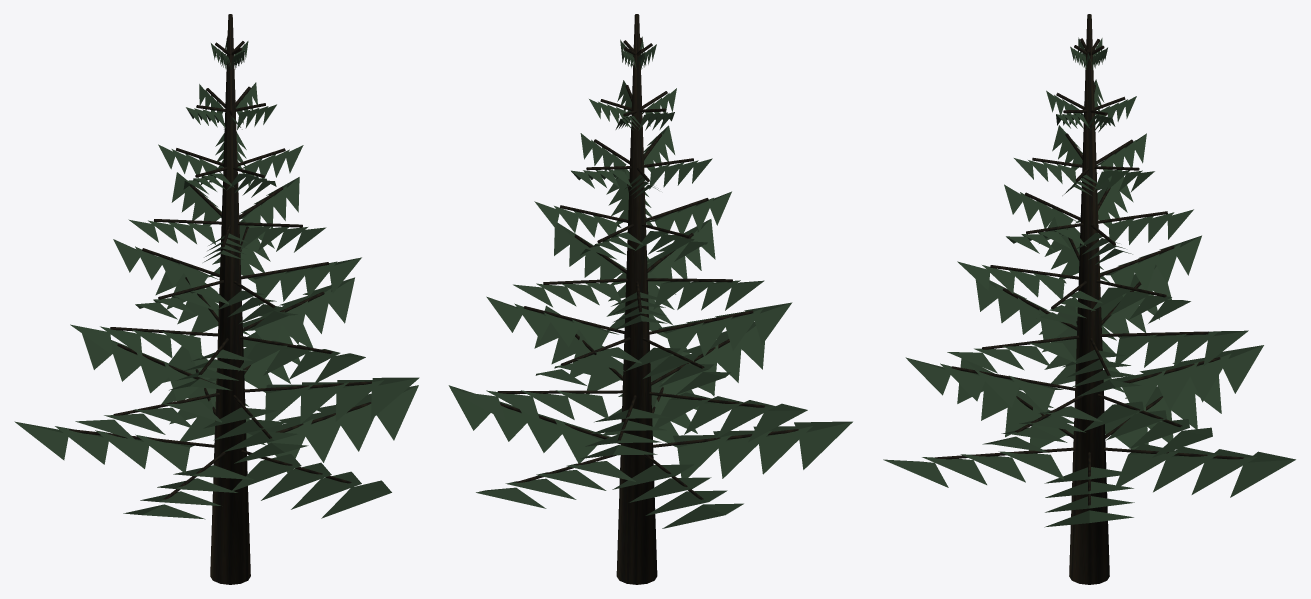
File: pine-1.glb
3 views of the same model, side by side, from view 1: azimuth 30°, elevation 25°; view 2: azimuth 150°, elevation 25°; view 3: azimuth 270°, elevation 25° (orthographic).
Visible parts, largest first — view 1: Trunk, Needle spray.002, Needle spray.006, Needle spray.004, Needle spray.078, Needle spray.076, Needle spray.074, Needle spray.023, Needle spray.017, Needle spray.021, Needle spray.072, Needle spray.019 (+13 smaller); view 2: Trunk, Needle spray.030, Needle spray.028, Needle spray.026, Needle spray.024, Needle spray.001, Needle spray.003, Needle spray.062, Needle spray.060, Needle spray.058, Needle spray.056, Needle spray.068 (+21 smaller); view 3: Trunk, Needle spray.014, Needle spray.010, Needle spray.012, Needle spray.008, Needle spray.054, Needle spray.052, Needle spray.050, Needle spray.020, Needle spray.039, Needle spray.048, Needle spray.033 (+15 smaller).
Boxes of the visible parts, left/top/right/bottom form: Trunk: left=210, top=14, right=250, bottom=584; Needle spray.002: left=305, top=413, right=345, bottom=462; Needle spray.006: left=376, top=385, right=418, bottom=440; Needle spray.004: left=340, top=404, right=374, bottom=451; Needle spray.078: left=371, top=377, right=419, bottom=419; Needle spray.076: left=335, top=380, right=383, bottom=421; Needle spray.074: left=300, top=382, right=348, bottom=423; Needle spray.023: left=14, top=421, right=68, bottom=460; Needle spray.017: left=136, top=435, right=189, bottom=472; Needle spray.021: left=55, top=426, right=108, bottom=464; Needle spray.072: left=265, top=384, right=313, bottom=420; Needle spray.019: left=95, top=430, right=148, bottom=468; Trunk: left=616, top=14, right=657, bottom=584; Needle spray.030: left=799, top=421, right=852, bottom=469; Needle spray.028: left=759, top=426, right=812, bottom=474; Needle spray.026: left=718, top=430, right=772, bottom=478; Needle spray.024: left=677, top=435, right=731, bottom=477; Needle spray.001: left=554, top=419, right=600, bottom=463; Needle spray.003: left=520, top=409, right=561, bottom=452; Needle spray.062: left=748, top=410, right=807, bottom=442; Needle spray.060: left=716, top=406, right=775, bottom=438; Needle spray.058: left=684, top=402, right=743, bottom=434; Needle spray.056: left=652, top=398, right=711, bottom=430; Needle spray.068: left=717, top=339, right=741, bottom=382; Trunk: left=1069, top=14, right=1109, bottom=584; Needle spray.014: left=1230, top=459, right=1295, bottom=497; Needle spray.010: left=1153, top=454, right=1218, bottom=492; Needle spray.012: left=1191, top=457, right=1256, bottom=494; Needle spray.008: left=1116, top=451, right=1180, bottom=485; Needle spray.054: left=1223, top=345, right=1263, bottom=393; Needle spray.052: left=1190, top=353, right=1231, bottom=402; Needle spray.050: left=1157, top=362, right=1198, bottom=410; Needle spray.020: left=1171, top=377, right=1197, bottom=429; Needle spray.039: left=883, top=459, right=948, bottom=487; Needle spray.048: left=1122, top=370, right=1165, bottom=413; Needle spray.033: left=998, top=451, right=1063, bottom=479.
Bounding box in the file's own units: 4.59 × 7 × 4.68.
2 materials, 1 textured.
